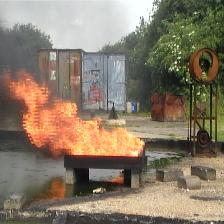fire: (1, 67, 145, 157)
